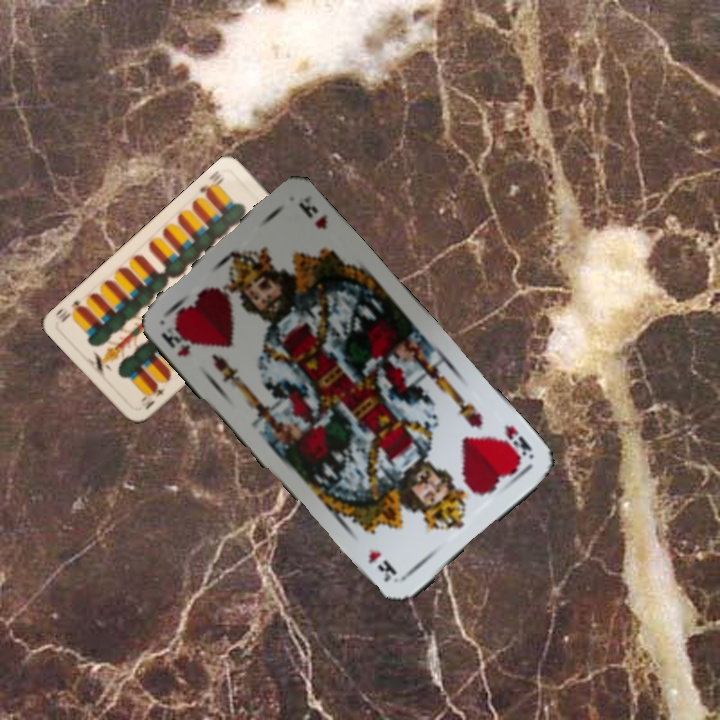E10: (195, 166, 227, 200), (136, 381, 167, 412)
HK: (496, 420, 536, 466), (157, 317, 196, 359)
